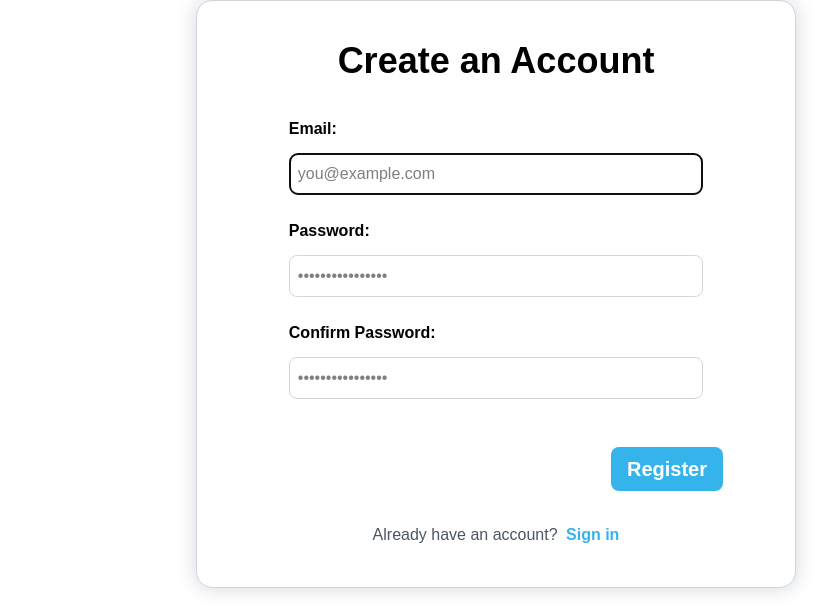
Test: RegisterPanel › shows the invalid email tooltip when register() rejects with an invalid email error
This screenshot has width=820, height=612.
Type "bad-email" into the field named "Email:*" at (496, 174), box top-left (289, 153), bottom-right (703, 195)
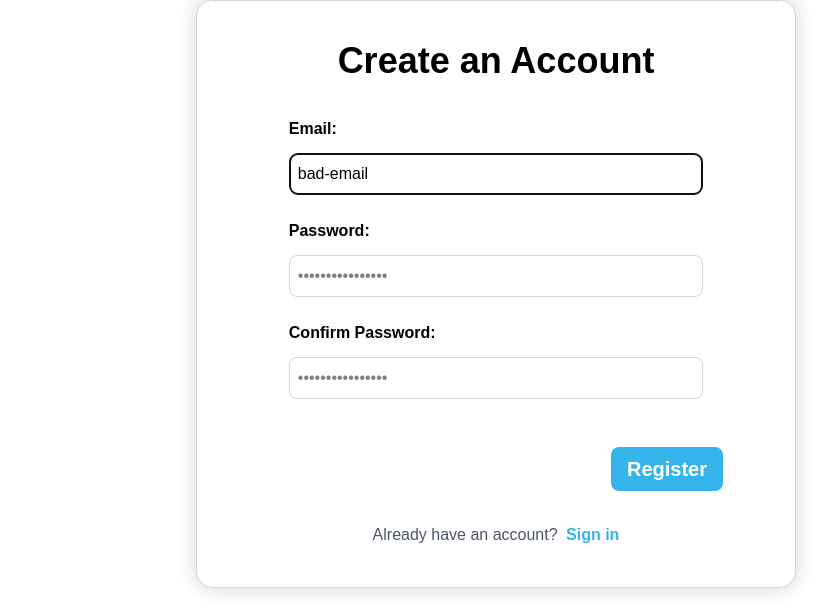
Type "Password123@" into the password field named "Password:*" at (496, 276), box top-left (289, 255), bottom-right (703, 297)
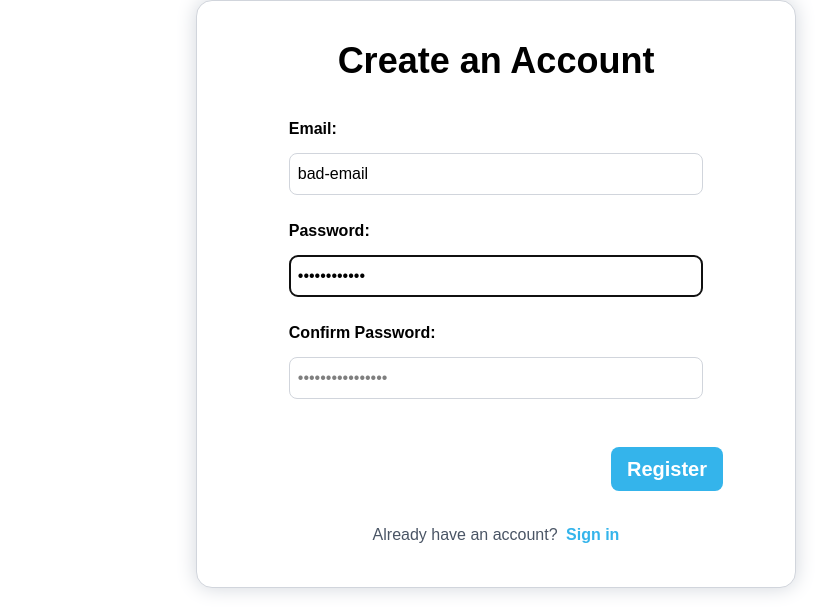
Type "Password123@" into the password field named "Confirm Password:*" at (496, 378), box top-left (289, 357), bottom-right (703, 399)
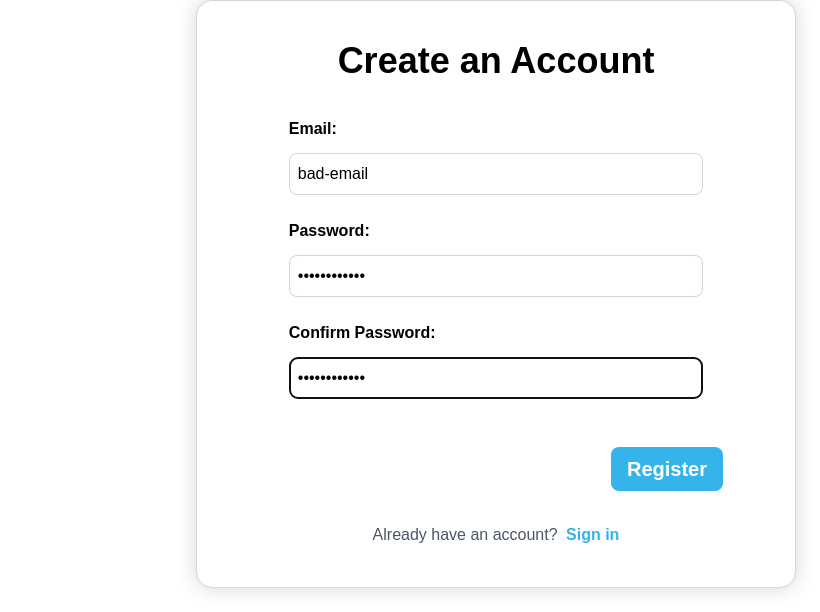
Click the button "Register" at (667, 469), box top-left (611, 447), bottom-right (723, 491)
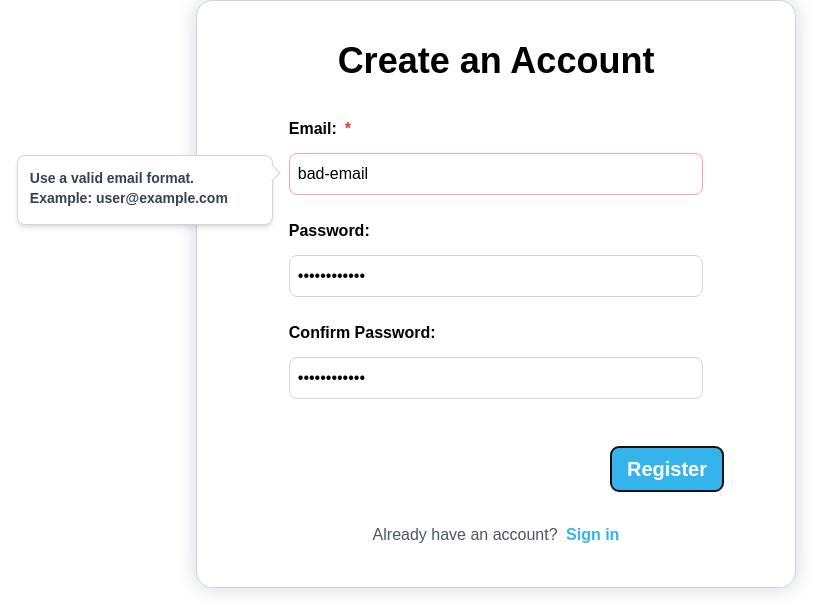
expect the text "Use a valid email format. Example: user@example.com" is shown: met, box top-left (30, 168), bottom-right (260, 208)
